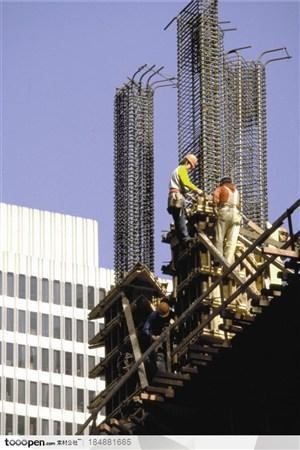helmet: (182, 153, 203, 171), (218, 172, 235, 189)
